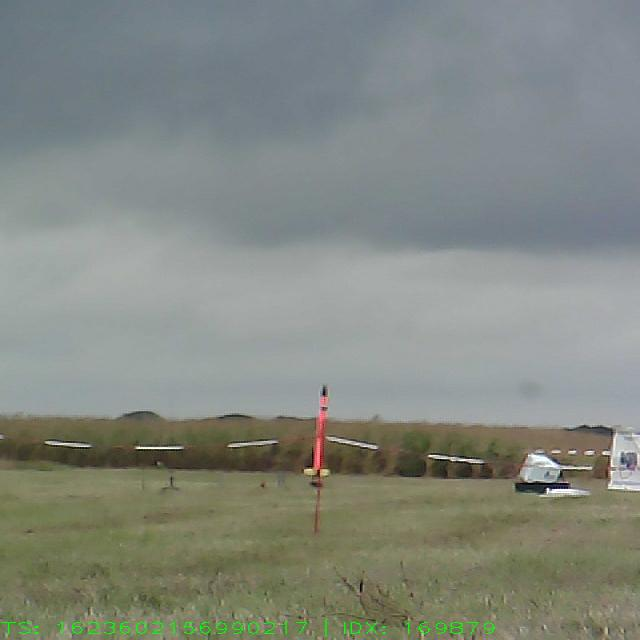Rocket: (302, 382, 334, 479)
